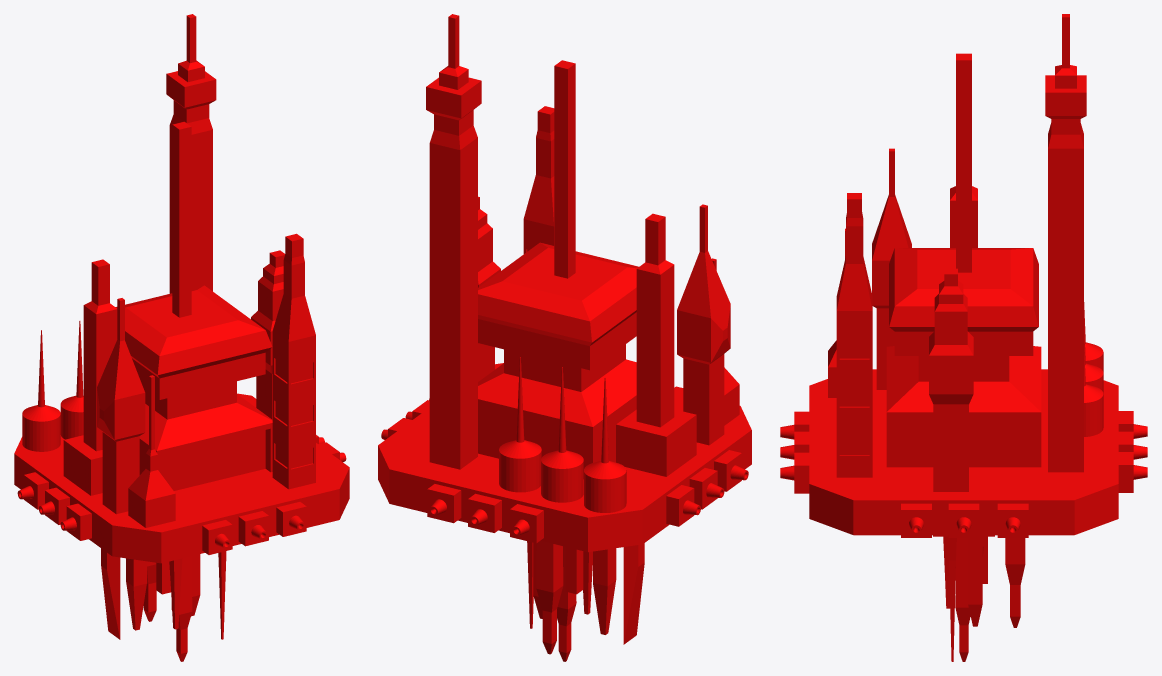
The model's file is EnemyCity1.fbx.
The picture shows the model from 3 angles, left to right: view 1: azimuth 30°, elevation 25°; view 2: azimuth 150°, elevation 25°; view 3: azimuth 270°, elevation 25°; orthographic projection. The views are drawn at different scales.
Parts seen in each view (by area): view 1: Cube; view 2: Cube; view 3: Cube.
Part boxes in pixels (x1,y1,x2,y2): Cube: (14,14,349,661); Cube: (378,14,751,661); Cube: (780,14,1147,661).
Bounding box in the file's own units: 475 × 964 × 475.
